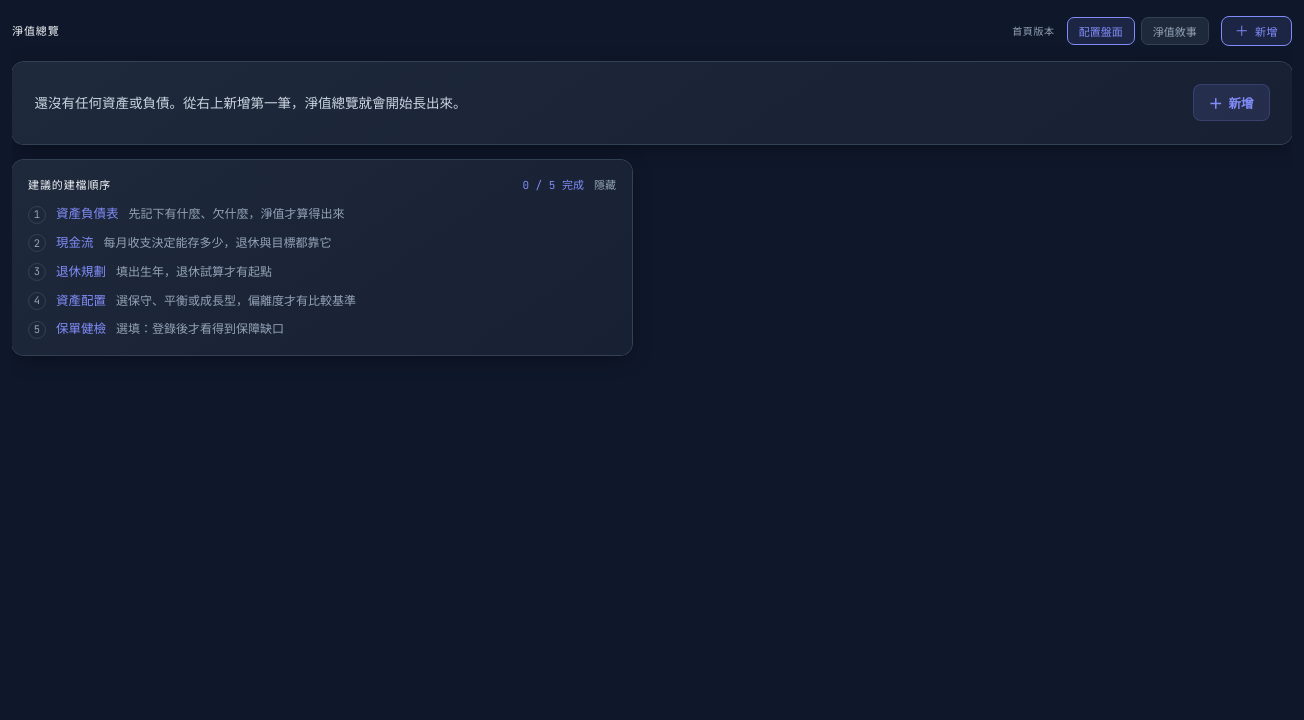
Test case: home page › keeps the add button read-only, and a click says why instead of opening a form
Expected: the text "還沒有任何資產或負債。從右上新增第一筆，淨值總覽就會開始長出來。" is shown, [34,91,466,115]
Click the button with class "wealth-empty-add" at [1231, 103], box [1193,84,1270,121]
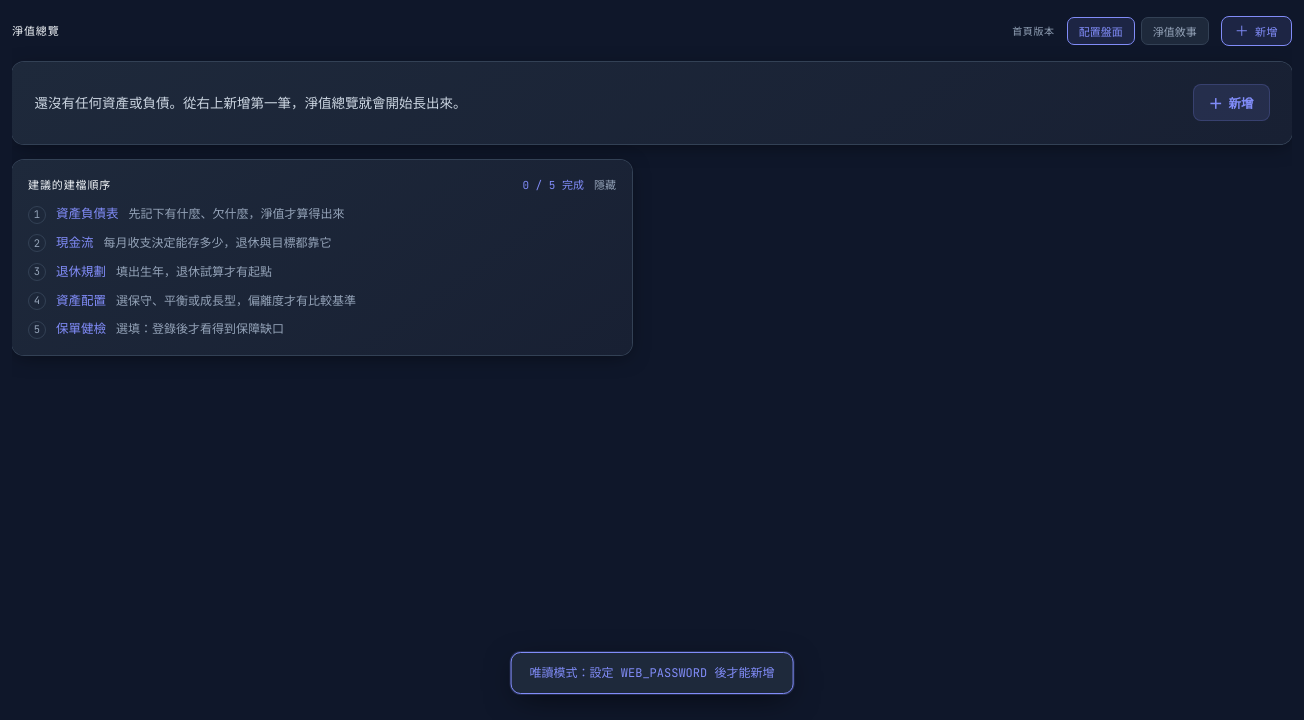
Result: the text "唯讀模式：設定 WEB_PASSWORD 後才能新增" is shown at [511,652,793,694]
